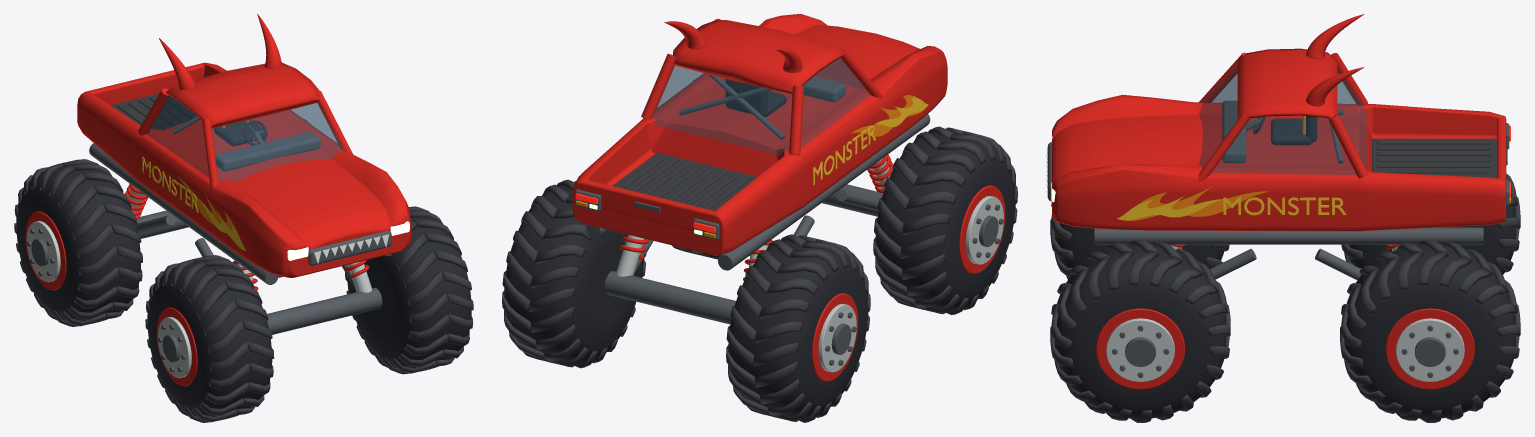
The model's file is monster_truck.glb.
3 views of the same model, side by side, from view 1: azimuth 30°, elevation 25°; view 2: azimuth 150°, elevation 25°; view 3: azimuth 270°, elevation 25° (orthographic). The views are drawn at different scales.
Visible parts, largest first — view 1: Pickup body, All terrain tire, All terrain tire.002, All terrain tire.001, Cab glazing, Cab roof, Solid axle, Cab dashboard, Frame rail, Tailgate, Front grille, Wheel hub alloy.002 (+14 smaller); view 2: Pickup body, All terrain tire.002, All terrain tire, All terrain tire.003, Cab glazing, Cab roof, Solid axle.001, Tailgate, Recessed bed floor, Frame rail, Wheel hub alloy.002, Wheel hub alloy (+19 smaller); view 3: Pickup body, All terrain tire.001, All terrain tire.003, Cab glazing, Cab roof, Frame rail.001, All terrain tire.002, Wheel hub alloy.003, Wheel hub alloy.001, All terrain tire, Recessed bed floor, Wheel hub beadlock.001 (+23 smaller).
Boxes of the visible parts, bbox=[...] form: Pickup body: bbox=[77, 63, 411, 277]; All terrain tire: bbox=[145, 255, 274, 422]; All terrain tire.002: bbox=[14, 159, 142, 326]; All terrain tire.001: bbox=[345, 206, 473, 374]; Cab glazing: bbox=[147, 95, 344, 182]; Cab roof: bbox=[166, 63, 320, 128]; Solid axle: bbox=[267, 287, 382, 334]; Cab dashboard: bbox=[215, 132, 320, 171]; Frame rail: bbox=[89, 143, 278, 284]; Tailgate: bbox=[84, 62, 205, 105]; Front grille: bbox=[308, 230, 391, 265]; Wheel hub alloy.002: bbox=[26, 221, 60, 282]; Pickup body: bbox=[572, 14, 947, 255]; All terrain tire.002: bbox=[726, 234, 870, 422]; All terrain tire: bbox=[873, 126, 1017, 314]; All terrain tire.003: bbox=[502, 179, 646, 368]; Cab glazing: bbox=[651, 58, 869, 155]; Cab roof: bbox=[673, 20, 844, 93]; Solid axle.001: bbox=[604, 271, 735, 324]; Tailgate: bbox=[580, 180, 716, 230]; Recessed bed floor: bbox=[612, 153, 757, 210]; Frame rail: bbox=[718, 114, 930, 270]; Wheel hub alloy.002: bbox=[818, 303, 856, 372]; Wheel hub alloy: bbox=[966, 196, 1003, 264]; Pickup body: bbox=[1052, 94, 1505, 231]; All terrain tire.001: bbox=[1050, 240, 1230, 422]; All terrain tire.003: bbox=[1340, 240, 1520, 422]; Cab glazing: bbox=[1199, 67, 1366, 174]; Cab roof: bbox=[1237, 48, 1337, 119]; Frame rail.001: bbox=[1094, 227, 1483, 244]; All terrain tire.002: bbox=[1341, 173, 1520, 274]; Wheel hub alloy.003: bbox=[1396, 318, 1464, 381]; Wheel hub alloy.001: bbox=[1106, 318, 1174, 381]; All terrain tire: bbox=[1050, 202, 1229, 279]; Recessed bed floor: bbox=[1372, 138, 1497, 178]; Wheel hub beadlock.001: bbox=[1096, 308, 1185, 389].
Size of the model in its own units: 4.16 by 4.09 by 5.51.
